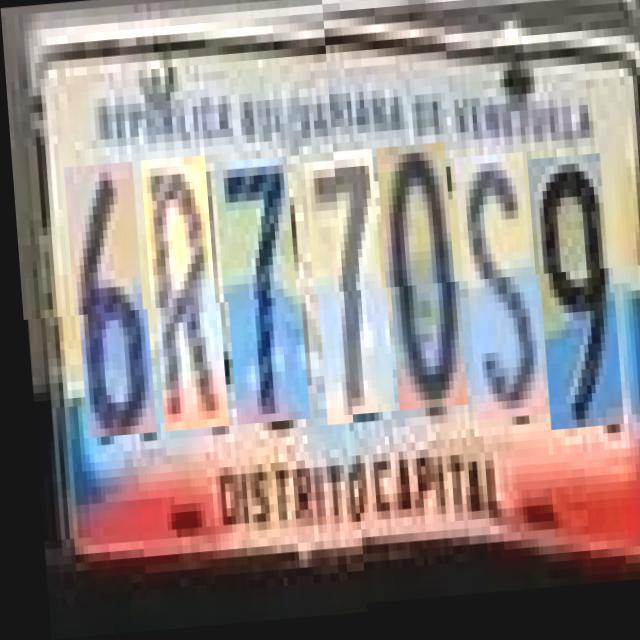6: (66, 163, 150, 439)
7: (215, 161, 303, 429), (305, 164, 389, 430)
9: (529, 172, 617, 448)
O: (378, 158, 462, 426)
R: (142, 158, 222, 434)
S: (456, 170, 540, 436)
